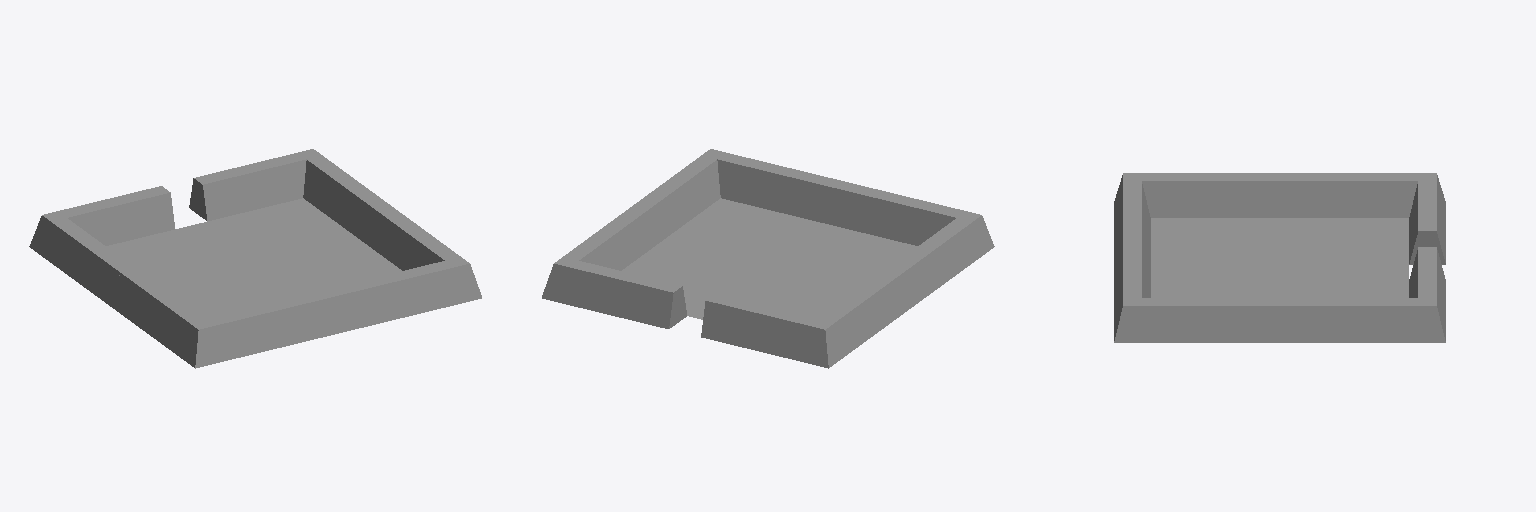
File: sala_01.obj
3 renders of one model, left to right at view 1: azimuth 30°, elevation 25°; view 2: azimuth 150°, elevation 25°; view 3: azimuth 270°, elevation 25°, orthographic.
Parts seen in each view (by area): view 1: Ground_Plane, Wall.002_Cube.014, Wall.005_Cube.002, Wall.007_Cube.017, Wall.001_Cube.012, Wall.003_Cube.010, Wall.000_Cube.011, Wall.006_Cube.016, Wall.004_Cube.015; view 2: Ground_Plane, Wall.007_Cube.017, Wall.000_Cube.011, Wall.005_Cube.002, Wall.002_Cube.014, Wall.003_Cube.010, Wall.001_Cube.012, Wall.004_Cube.015, Wall.006_Cube.016; view 3: Ground_Plane, Wall.004_Cube.015, Wall.006_Cube.016, Wall.003_Cube.010, Wall.001_Cube.012, Wall.000_Cube.011, Wall.002_Cube.014, Wall.005_Cube.002, Wall.007_Cube.017.
Part boxes in pixels (x1,y1,x2,y2): Ground_Plane: (106,198,401,318); Wall.002_Cube.014: (195,290,338,368); Wall.005_Cube.002: (326,261,481,332); Wall.007_Cube.017: (189,149,312,221); Wall.001_Cube.012: (29,215,135,306); Wall.003_Cube.010: (112,269,204,367); Wall.000_Cube.011: (44,186,174,245); Wall.006_Cube.016: (303,149,390,244); Wall.004_Cube.015: (368,206,468,270); Ground_Plane: (622,198,917,319); Wall.007_Cube.017: (542,261,686,328); Wall.000_Cube.011: (701,294,828,368); Wall.005_Cube.002: (711,149,845,224); Wall.002_Cube.014: (833,182,979,245); Wall.003_Cube.010: (888,215,994,306); Wall.001_Cube.012: (819,269,911,367); Wall.004_Cube.015: (633,149,720,244); Wall.006_Cube.016: (555,206,655,270); Ground_Plane: (1151,218,1408,297); Wall.004_Cube.015: (1114,298,1279,342); Wall.006_Cube.016: (1280,298,1445,342); Wall.003_Cube.010: (1124,173,1279,217); Wall.001_Cube.012: (1280,173,1435,217); Wall.000_Cube.011: (1409,173,1445,264); Wall.002_Cube.014: (1114,173,1150,270); Wall.005_Cube.002: (1114,239,1150,340); Wall.007_Cube.017: (1409,247,1445,340).
Size of the model in its own units: 18 by 2 by 18.